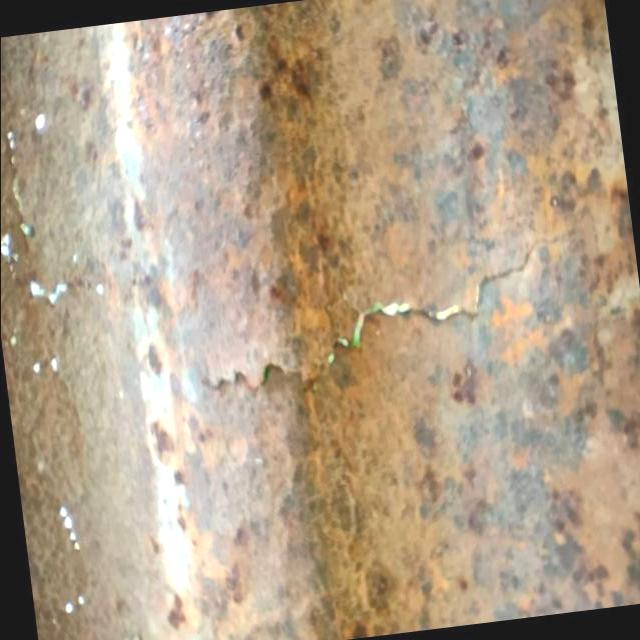defect: (189, 207, 590, 401)
